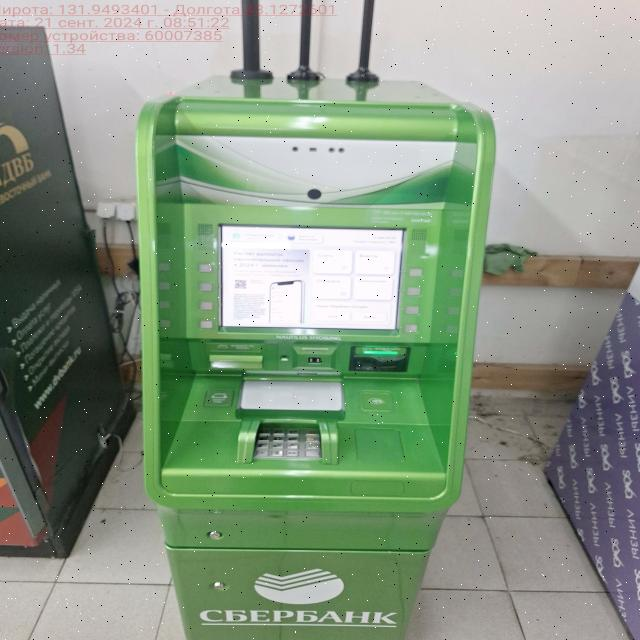bank: (128, 66, 494, 640)
